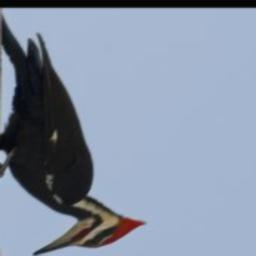Woodpecker: (0, 34, 151, 256)
